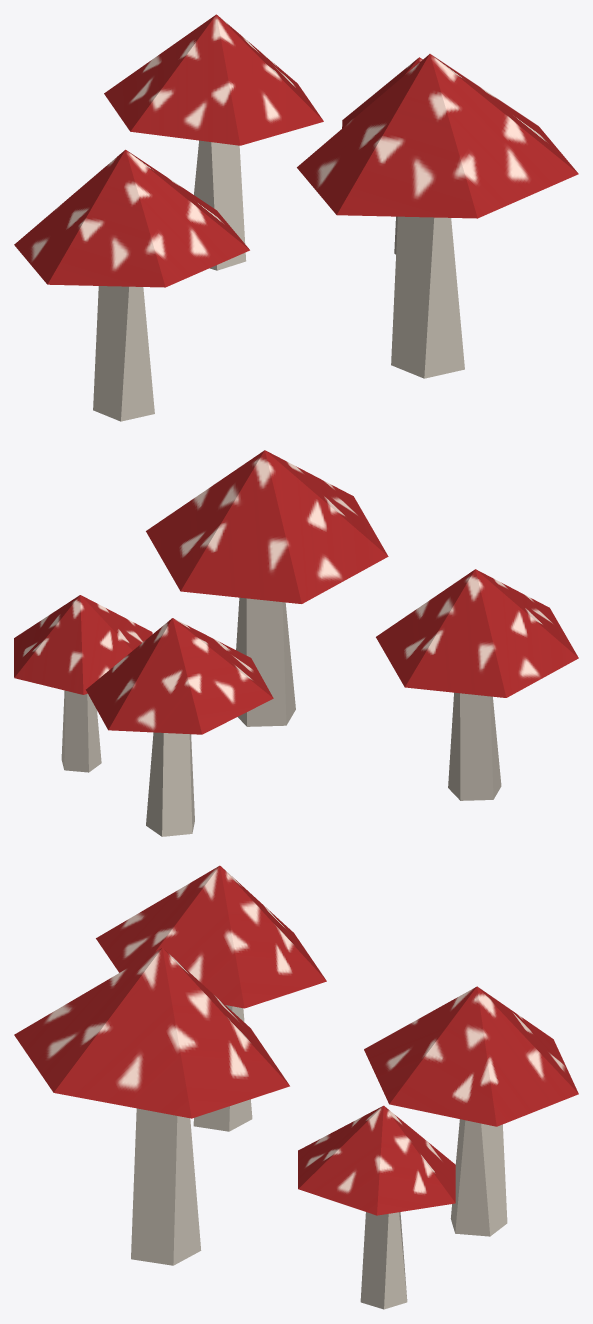
The model's file is Mushroom_1B.fbx.
The picture shows the model from 3 angles, top to bottom: view 1: azimuth 30°, elevation 25°; view 2: azimuth 150°, elevation 25°; view 3: azimuth 270°, elevation 25°; orthographic projection. The views are drawn at different scales.
Visible parts, largest first — view 1: polySurface10609; view 2: polySurface10609; view 3: polySurface10609.
Part boxes in pixels (<box>): polySurface10609: <box>14,14,578,421</box>; polySurface10609: <box>14,450,578,836</box>; polySurface10609: <box>14,865,578,1309</box>.
Bounding box in the file's own units: 103 × 54.23 × 91.79.
